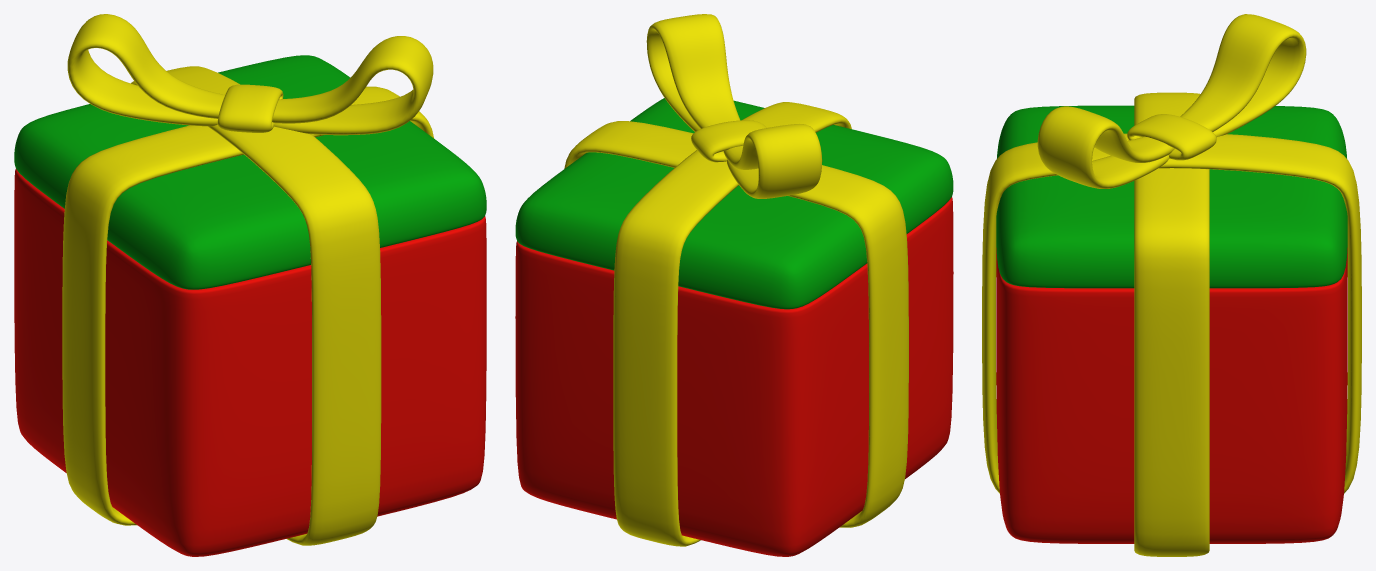
3 renders of one model, left to right at view 1: azimuth 30°, elevation 25°; view 2: azimuth 150°, elevation 25°; view 3: azimuth 270°, elevation 25°, orthographic. The views are drawn at different scales.
Parts seen in each view (by area): view 1: Gift box 3d icon illustration, Plane.001, Plane_Piece.001, Plane_Piece, Vert, Cylinder; view 2: Gift box 3d icon illustration, Plane.001, Plane_Piece.001, Plane_Piece, Vert, Cylinder; view 3: Gift box 3d icon illustration, Plane.001, Plane_Piece, Vert, Plane_Piece.001, Cylinder.
Boxes of the visible parts, x1,y1,x2,y2 form: Gift box 3d icon illustration: [14, 169, 486, 556]; Plane.001: [14, 55, 486, 289]; Plane_Piece.001: [131, 66, 381, 545]; Plane_Piece: [62, 86, 433, 525]; Vert: [67, 14, 433, 135]; Cylinder: [217, 84, 283, 132]; Gift box 3d icon illustration: [515, 197, 953, 556]; Plane.001: [515, 98, 953, 309]; Plane_Piece.001: [613, 102, 851, 546]; Plane_Piece: [564, 121, 908, 527]; Vert: [646, 14, 822, 198]; Cylinder: [691, 120, 766, 162]; Gift box 3d icon illustration: [996, 248, 1347, 543]; Plane.001: [996, 105, 1347, 288]; Plane_Piece: [1134, 92, 1209, 556]; Vert: [1037, 14, 1306, 188]; Plane_Piece.001: [982, 133, 1361, 493]; Cylinder: [1127, 114, 1216, 160].
Size of the model in its own units: 0.1079 by 0.1345 by 0.1079.
